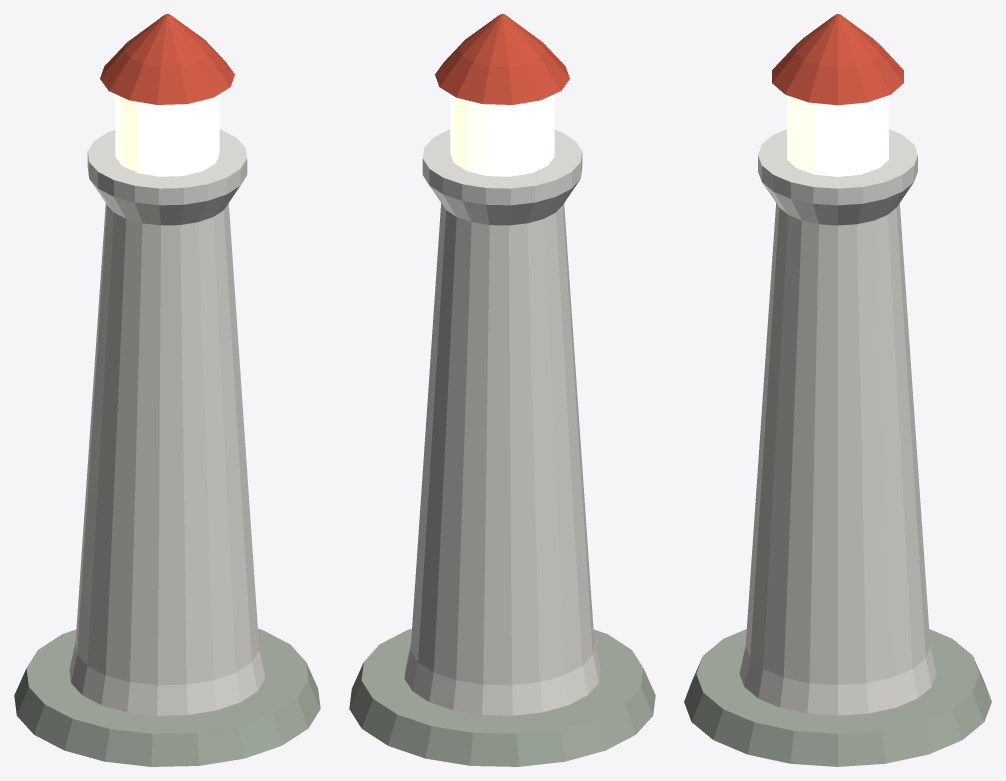
Rendered from lighthouse.glb.
3 views of the same model, side by side, from view 1: azimuth 30°, elevation 25°; view 2: azimuth 150°, elevation 25°; view 3: azimuth 270°, elevation 25° (orthographic).
Parts seen in each view (by area): view 1: LOD0; view 2: LOD0; view 3: LOD0.
Boxes of the visible parts, <box> form: LOD0: <box>14,14,320,766</box>; LOD0: <box>349,14,655,766</box>; LOD0: <box>684,14,991,766</box>.
Size of what is drawn, in the model's own units: 10 by 24.6 by 10.
